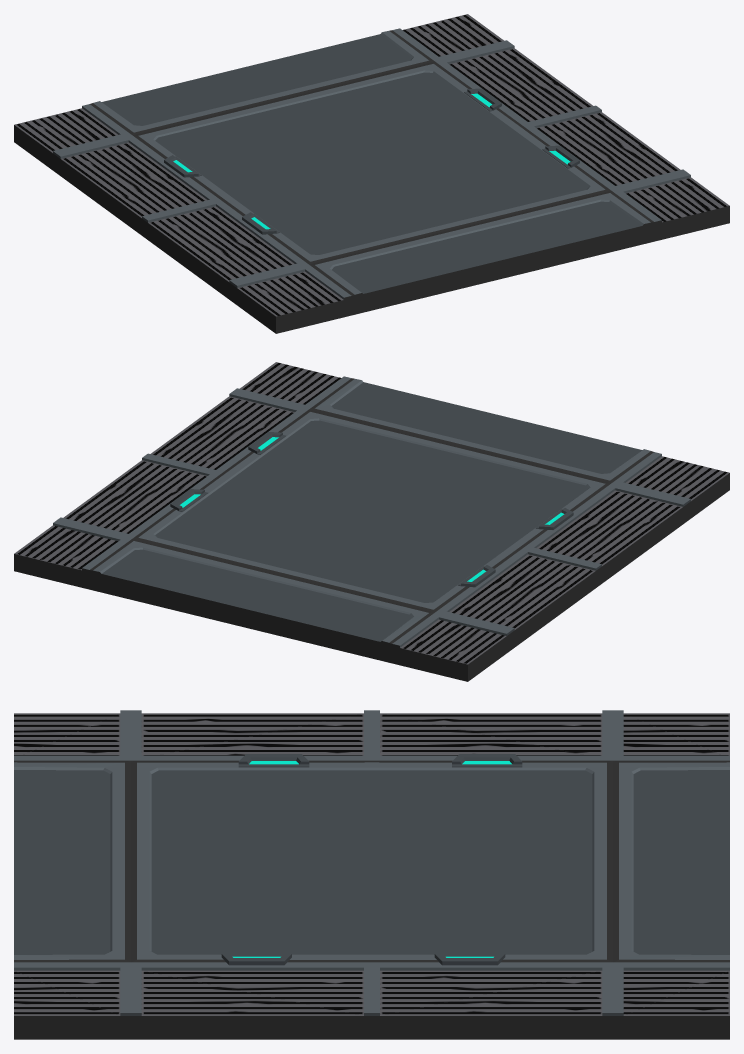
The model's file is SM_Bld_Floor_011.fbx.
3 views of the same model, one above another, from view 1: azimuth 30°, elevation 25°; view 2: azimuth 150°, elevation 25°; view 3: azimuth 270°, elevation 25° (orthographic). The views are drawn at different scales.
Parts seen in each view (by area): view 1: SM_Bld_Floor_011; view 2: SM_Bld_Floor_011; view 3: SM_Bld_Floor_011.
Part boxes in pixels (x1,y1,x2,y2): SM_Bld_Floor_011: (14,14,729,333); SM_Bld_Floor_011: (14,362,729,681); SM_Bld_Floor_011: (14,710,729,1039).
Bounding box in the file's own units: 500 × 23.72 × 500.
1 material, 1 textured.
